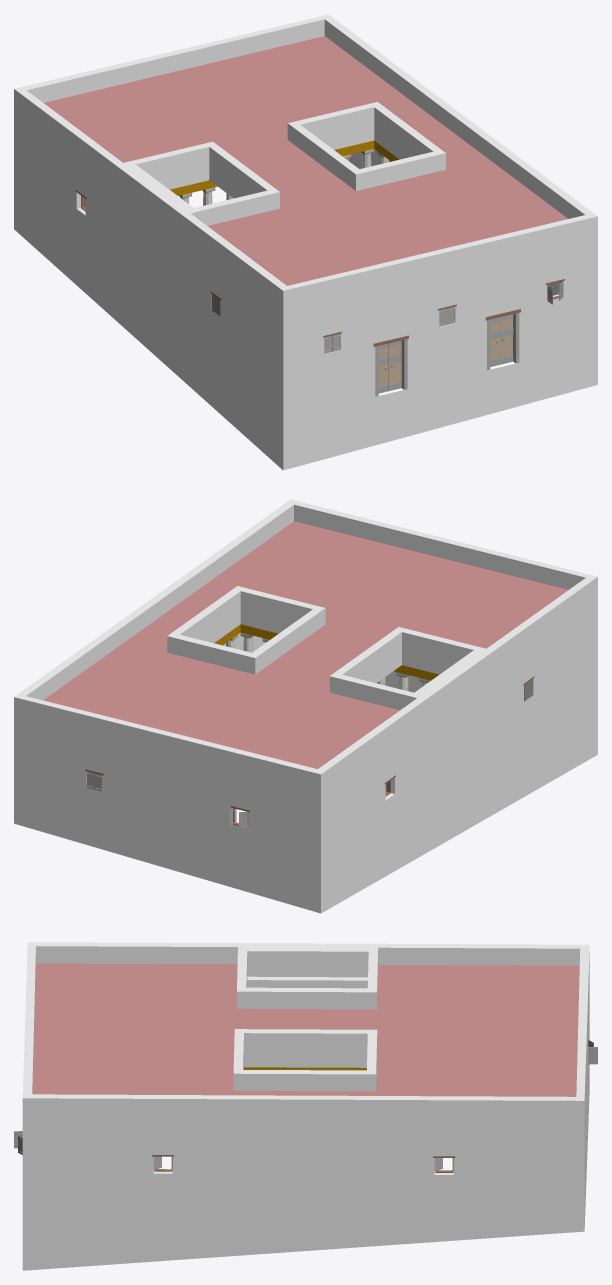
The model's file is LOD_Block_2_83.glb.
3 renders of one model, top to bottom at view 1: azimuth 30°, elevation 25°; view 2: azimuth 150°, elevation 25°; view 3: azimuth 270°, elevation 25°, orthographic. The views are drawn at different scales.
Visible parts, largest first — view 1: _1.3906; view 2: _1.3906; view 3: _1.3906.
Part boxes in pixels (bbox=[...]): _1.3906: bbox=[14, 14, 597, 470]; _1.3906: bbox=[14, 499, 597, 913]; _1.3906: bbox=[14, 942, 597, 1270].
Bounding box in the file's own units: 19.92 × 10.77 × 30.98.
Materials: 21 (2 with a texture image).
